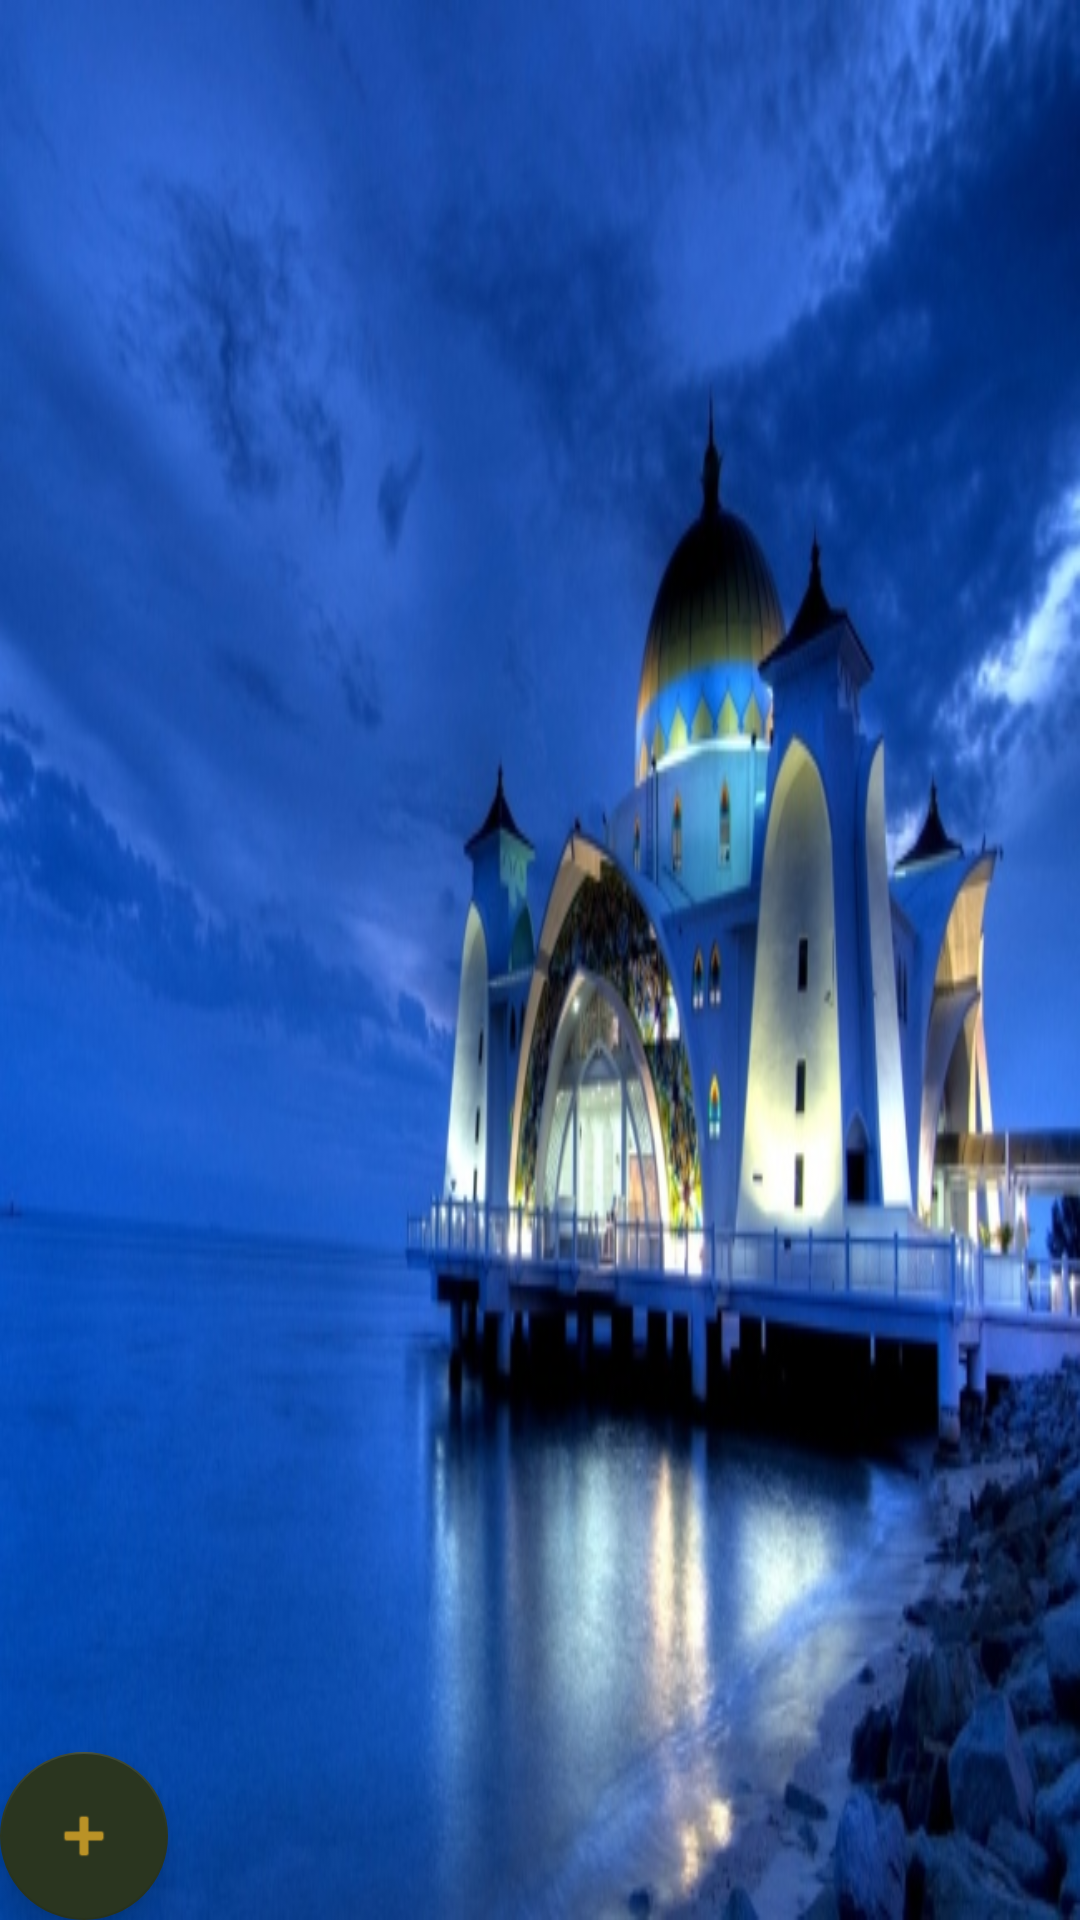

Named icons in this screenshot (1080x1920) and their centers, point (x, y):
add: point (84, 1836)
